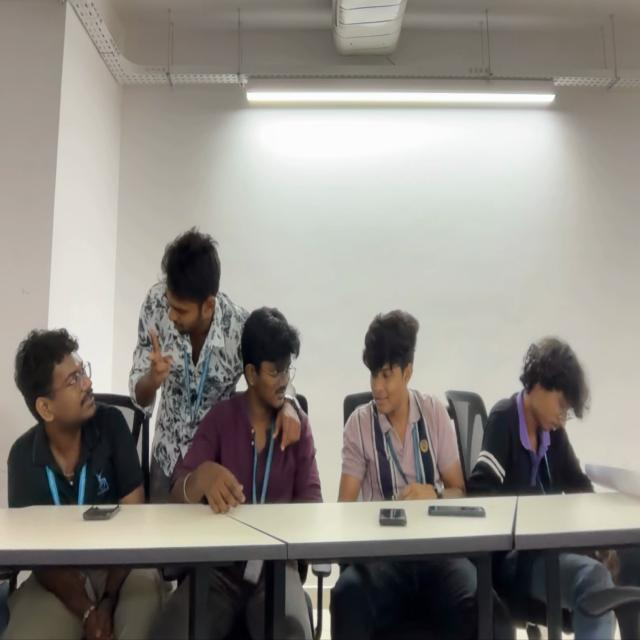Isolated: (338, 312, 463, 496), (472, 334, 598, 493)
socializing: (10, 202, 322, 502)
